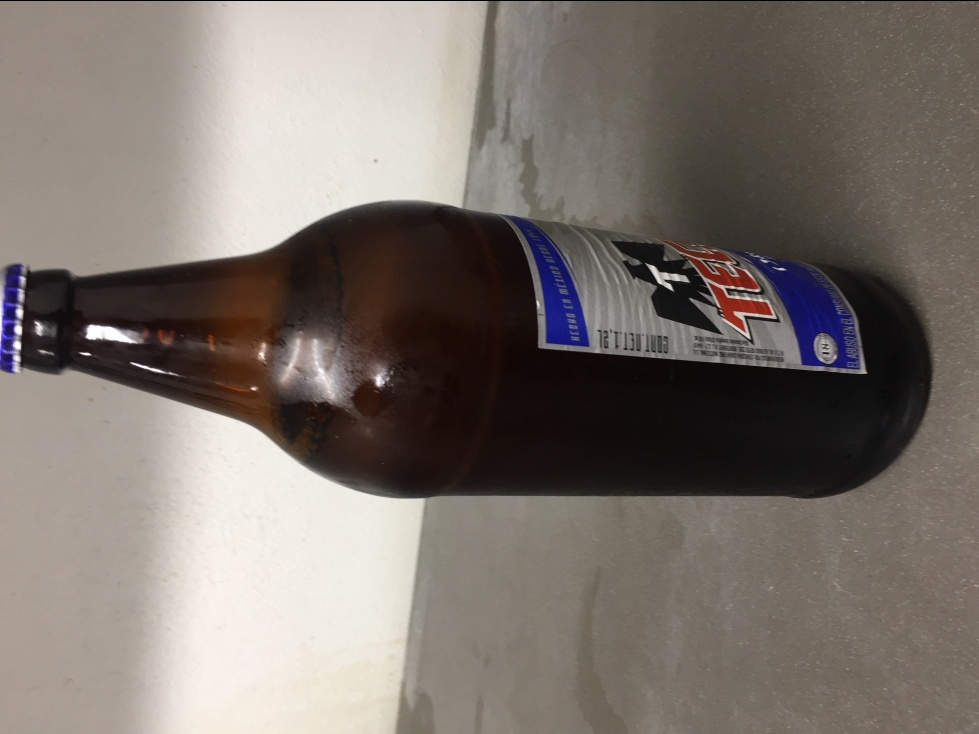tecateC: (1, 198, 930, 504)
